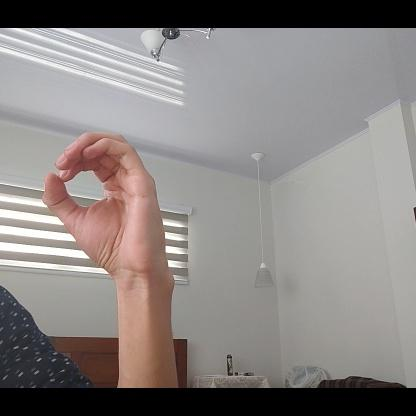O: (41, 125, 170, 278)
